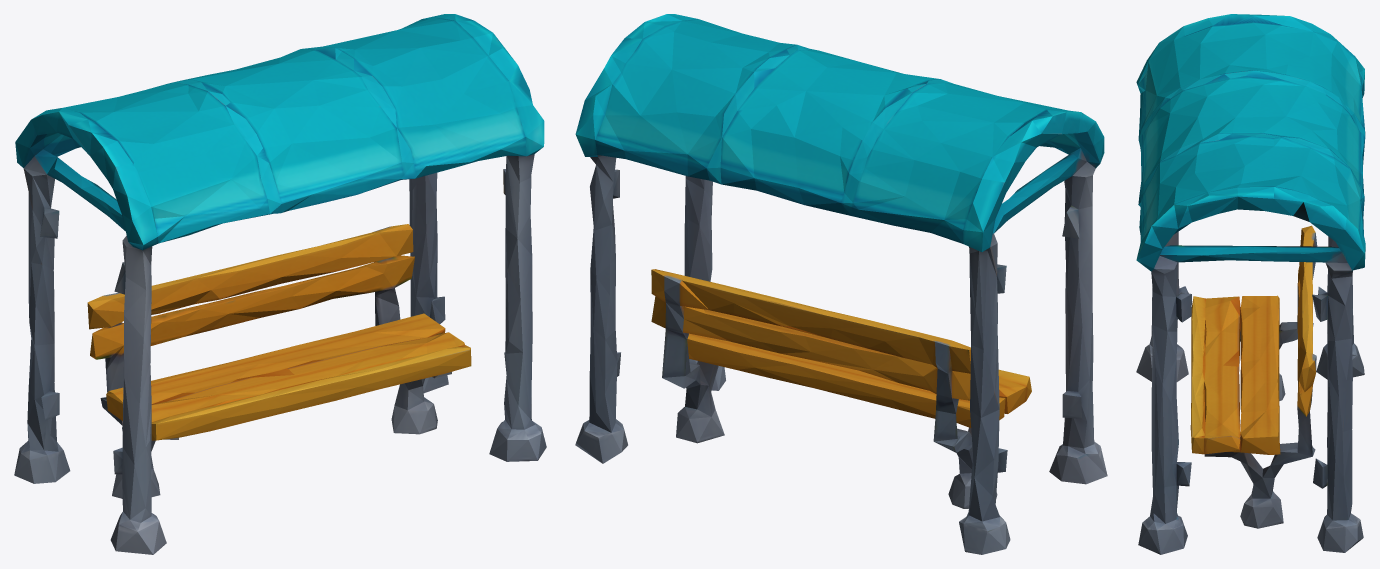
Rendered from bus_stop.glb.
3 renders of one model, left to right at view 1: azimuth 30°, elevation 25°; view 2: azimuth 150°, elevation 25°; view 3: azimuth 270°, elevation 25°, orthographic. The views are drawn at different scales.
Visible parts, largest first — view 1: geometry_0; view 2: geometry_0; view 3: geometry_0.
Part boxes in pixels (<box>): geometry_0: <box>14,14,546,554</box>; geometry_0: <box>575,14,1107,554</box>; geometry_0: <box>1136,14,1365,554</box>.
Bounding box in the file's own units: 0.9976 × 0.8609 × 0.5019.
Materials: 1 (1 with a texture image).
